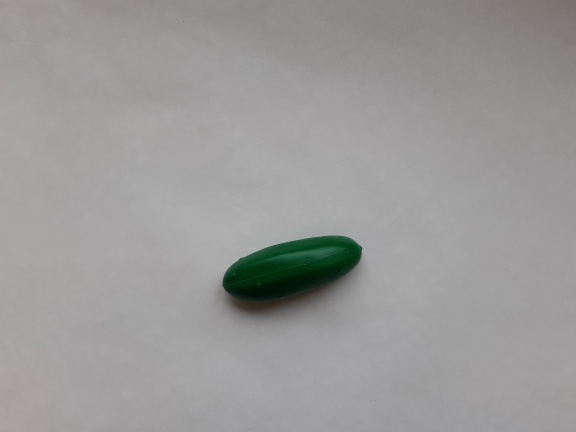cucumber: (216, 228, 372, 304)
